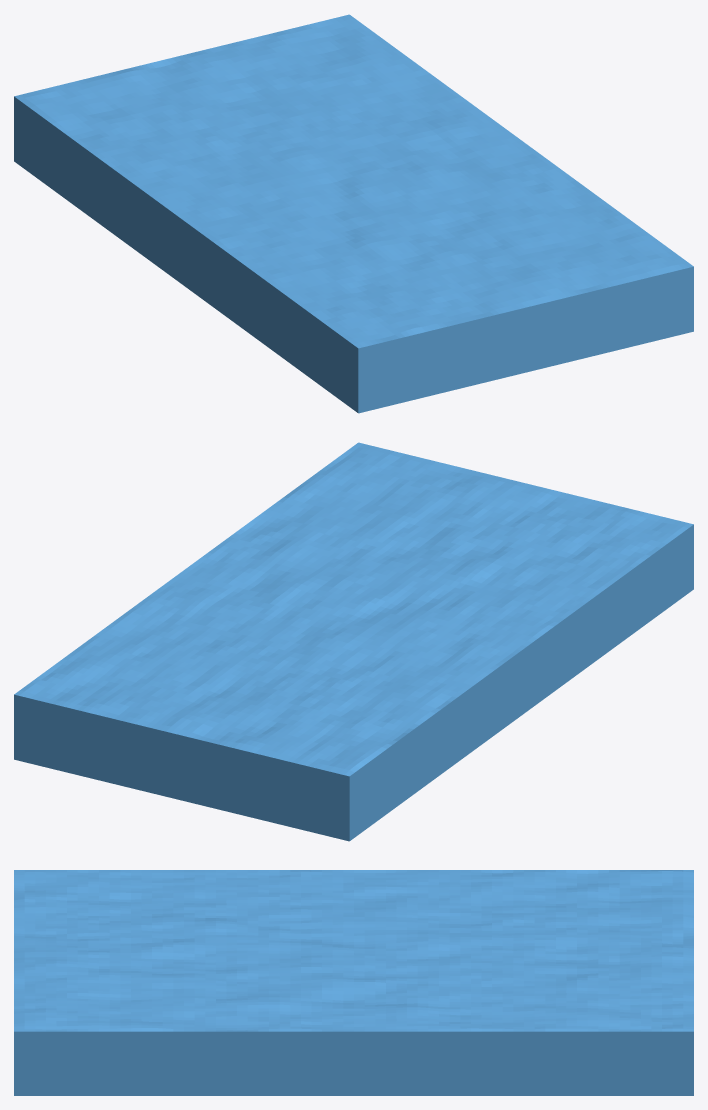
Rendered from lowpoly_water_1920x1080.glb.
3 views of the same model, one above another, from view 1: azimuth 30°, elevation 25°; view 2: azimuth 150°, elevation 25°; view 3: azimuth 270°, elevation 25° (orthographic).
Visible parts, largest first — view 1: water; view 2: water; view 3: water.
Boxes of the visible parts, x1,y1,x2,y2 form: water: (14,14,693,413); water: (14,442,693,841); water: (14,870,693,1095).
Bounding box in the file's own units: 10.8 × 2.08 × 19.2.
